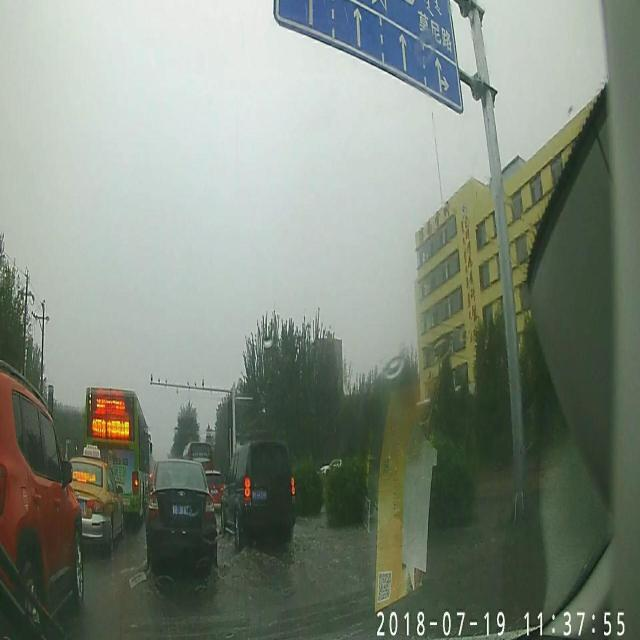car: (0, 357, 82, 629), (221, 438, 295, 550), (146, 457, 217, 572), (67, 444, 124, 552), (204, 470, 223, 502)
